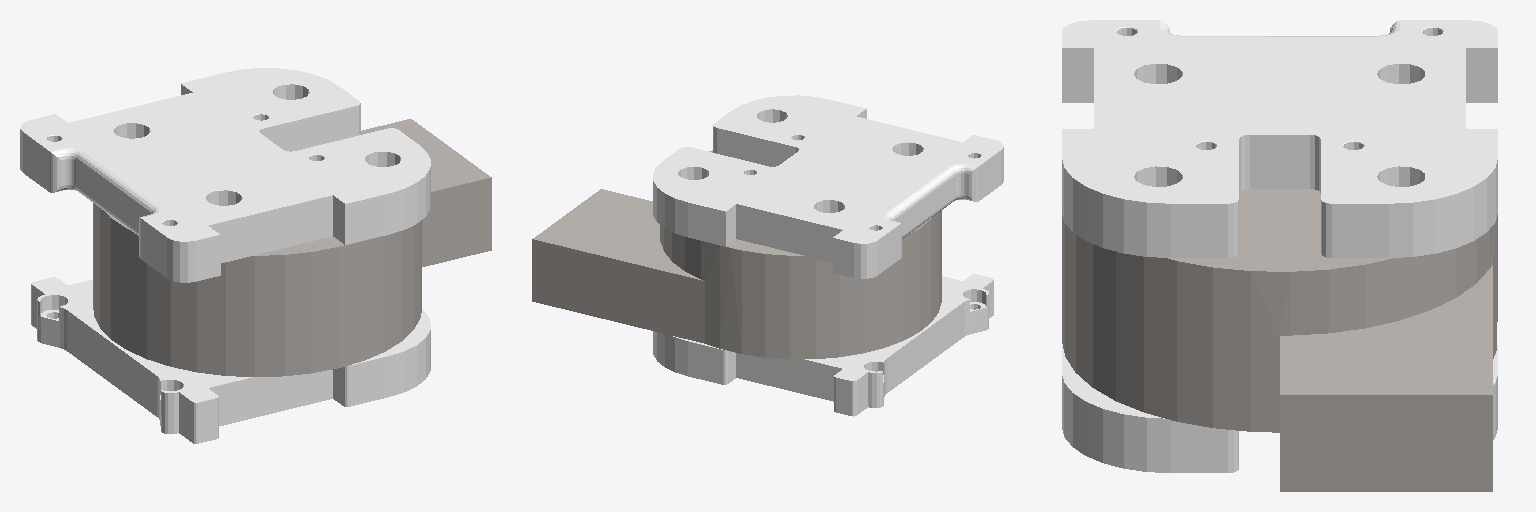
robot.urdf — FT_Electric3:
<?xml version="1.0" ?>
<robot
  name="FT_Electric3">
  <link
    name="FT_bottom_plate">
    <inertial>
      <origin
        xyz="0.034783 -1.3323E-15 0.0055211"
        rpy="0 0 0" />
      <mass
        value="0.051726" />
      <inertia
        ixx="2.5588E-05"
        ixy="2.7505E-21"
        ixz="2.4673E-08"
        iyy="2.3459E-05"
        iyz="4.1597E-22"
        izz="4.7997E-05" />
    </inertial>
    <visual>
      <origin
        xyz="0 0 0"
        rpy="0 0 0" />
      <geometry>
        <mesh
          filename="package://baxter_description/urdf/FT_Electric3/meshes/FT_bottom_plate.STL" />
      </geometry>
      <material
        name="">
        <color
          rgba="1 1 1 1" />
      </material>
    </visual>
    <collision>
      <origin
        xyz="0 0 0"
        rpy="0 0 0" />
      <geometry>
        <mesh
          filename="package://baxter_description/urdf/FT_Electric3/meshes/FT_bottom_plate.STL" />
      </geometry>
    </collision>
  </link>
  <link
    name="FT">
    <inertial>
      <origin
        xyz="0.003889 0.0057216 0.014109"
        rpy="0 0 0" />
      <mass
        value="1.4264" />
      <inertia
        ixx="0.0010241"
        ixy="0.00016944"
        ixz="2.4095E-05"
        iyy="0.00071846"
        iyz="5.2318E-05"
        izz="0.0014993" />
    </inertial>
    <visual>
      <origin
        xyz="0 0 0"
        rpy="0 0 0" />
      <geometry>
        <mesh
          filename="package://baxter_description/urdf/FT_Electric3/meshes/FT.STL" />
      </geometry>
      <material
        name="">
        <color
          rgba="0.77647 0.75686 0.73725 1" />
      </material>
    </visual>
    <collision>
      <origin
        xyz="0 0 0"
        rpy="0 0 0" />
      <geometry>
        <mesh
          filename="package://baxter_description/urdf/FT_Electric3/meshes/FT.STL" />
      </geometry>
    </collision>
  </link>
  <joint
    name="FT_Bottom_Joint"
    type="fixed">
    <origin
      xyz="0.041625 -0.00085087 0.040469"
      rpy="-3.1416 6.2028E-17 1.5708" />
    <parent
      link="FT_bottom_plate" />
    <child
      link="FT" />
    <axis
      xyz="0 0 0" />
  </joint>
  <link
    name="FT_Top_Plate">
    <inertial>
      <origin
        xyz="-0.0067444 -3.2055E-10 0.0054943"
        rpy="0 0 0" />
      <mass
        value="0.053196" />
      <inertia
        ixx="2.7087E-05"
        ixy="5.8629E-13"
        ixz="-2.2091E-08"
        iyy="2.5333E-05"
        iyz="4.732E-16"
        izz="5.1339E-05" />
    </inertial>
    <visual>
      <origin
        xyz="0 0 0"
        rpy="0 0 0" />
      <geometry>
        <mesh
          filename="package://baxter_description/urdf/FT_Electric3/meshes/FT_Top_Plate.STL" />
      </geometry>
      <material
        name="">
        <color
          rgba="1 1 1 1" />
      </material>
    </visual>
    <collision>
      <origin
        xyz="0 0 0"
        rpy="0 0 0" />
      <geometry>
        <mesh
          filename="package://baxter_description/urdf/FT_Electric3/meshes/FT_Top_Plate.STL" />
      </geometry>
    </collision>
  </link>
  <joint
    name="FT_Top_Joint"
    type="revolute">
    <origin
      xyz="0.00085087 -0.00087515 -0.0030305"
      rpy="3.1416 5.017E-16 1.5708" />
    <parent
      link="FT" />
    <child
      link="FT_Top_Plate" />
    <axis
      xyz="0 0 1" />
    <limit
      lower="0"
      upper="0"
      effort="0"
      velocity="0" />
  </joint>
</robot>

--- Render facts (derived) ---
3 views of the same robot in one strip: view 1: azimuth 30°, elevation 25°; view 2: azimuth 150°, elevation 25°; view 3: azimuth 270°, elevation 25° (orthographic).
Robot: FT_Electric3 — 3 links, 2 joints (1 revolute, 1 fixed); root link FT_bottom_plate; default pose: all joints at 0.
Visible links, largest first — view 1: FT_Top_Plate, FT, FT_bottom_plate; view 2: FT, FT_Top_Plate, FT_bottom_plate; view 3: FT, FT_Top_Plate, FT_bottom_plate.
Boxes of the visible links, x1,y1,x2,y2 form: FT_Top_Plate: [20, 68, 430, 282]; FT: [93, 119, 491, 376]; FT_bottom_plate: [31, 277, 430, 443]; FT: [532, 150, 941, 359]; FT_Top_Plate: [653, 95, 1003, 278]; FT_bottom_plate: [653, 274, 993, 416]; FT: [1062, 189, 1497, 491]; FT_Top_Plate: [1062, 20, 1497, 257]; FT_bottom_plate: [1062, 345, 1497, 472].
Size in the robot's own frame: 0.111 by 0.08 by 0.0545 metres.
3 mesh visuals loaded from 3 distinct referenced files (3 binary STL).
